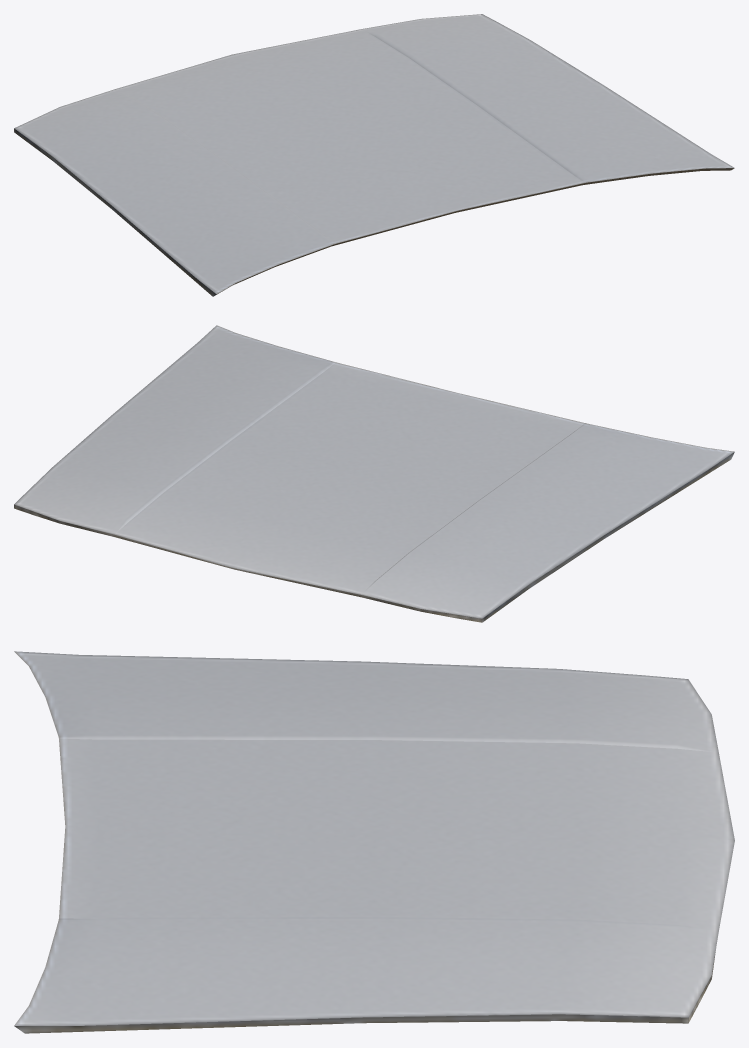
Rendered from FordCrownVic92Hood_WorldItem.fbx.
3 renders of one model, top to bottom at view 1: azimuth 30°, elevation 25°; view 2: azimuth 150°, elevation 25°; view 3: azimuth 270°, elevation 25°, orthographic. The views are drawn at different scales.
Visible parts, largest first — view 1: Hood_obj; view 2: Hood_obj; view 3: Hood_obj.
Boxes of the visible parts, box(x1,y1,x2,y2) form: Hood_obj: box(14, 14, 734, 296); Hood_obj: box(14, 325, 734, 622); Hood_obj: box(14, 651, 734, 1033).
Size of the model in its own units: 3.01 by 0.103 by 2.45.
